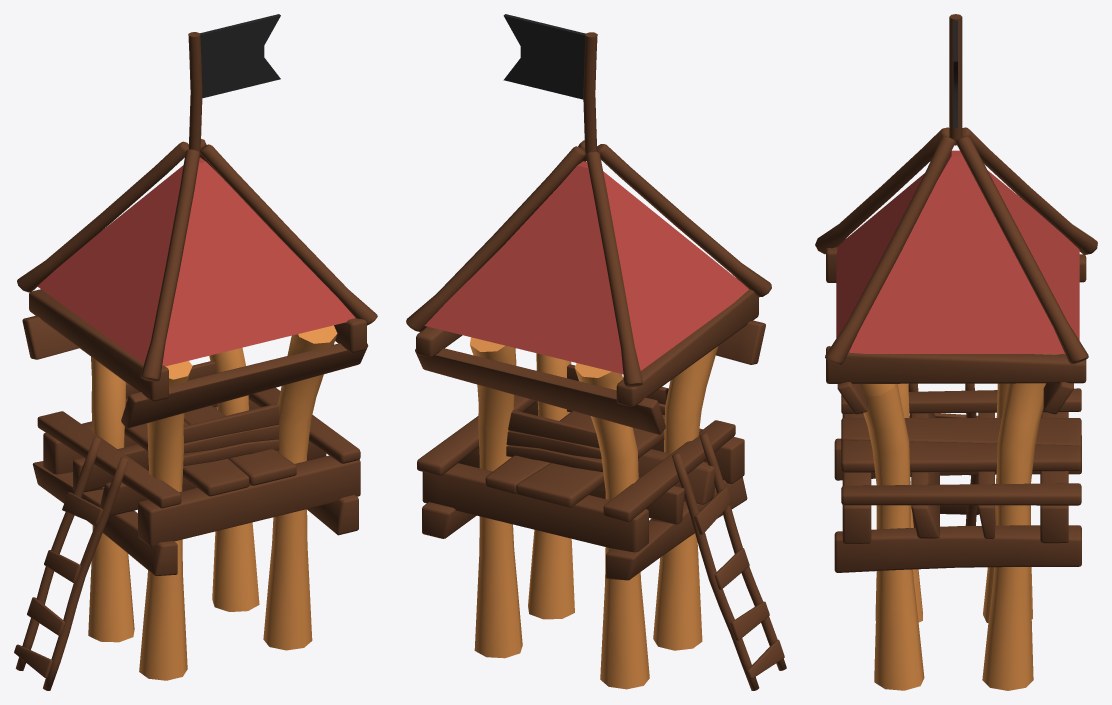
File: wood Tower.fbx
3 views of the same model, side by side, from view 1: azimuth 30°, elevation 25°; view 2: azimuth 150°, elevation 25°; view 3: azimuth 270°, elevation 25° (orthographic). The views are drawn at different scales.
Visible parts, largest first — view 1: Wood_Tower; view 2: Wood_Tower; view 3: Wood_Tower.
Part boxes in pixels (<box>): Wood_Tower: <box>14,14,377,690</box>; Wood_Tower: <box>406,14,786,690</box>; Wood_Tower: <box>815,14,1097,690</box>.
Size of the model in its own units: 11.34 by 22.04 by 8.98.
